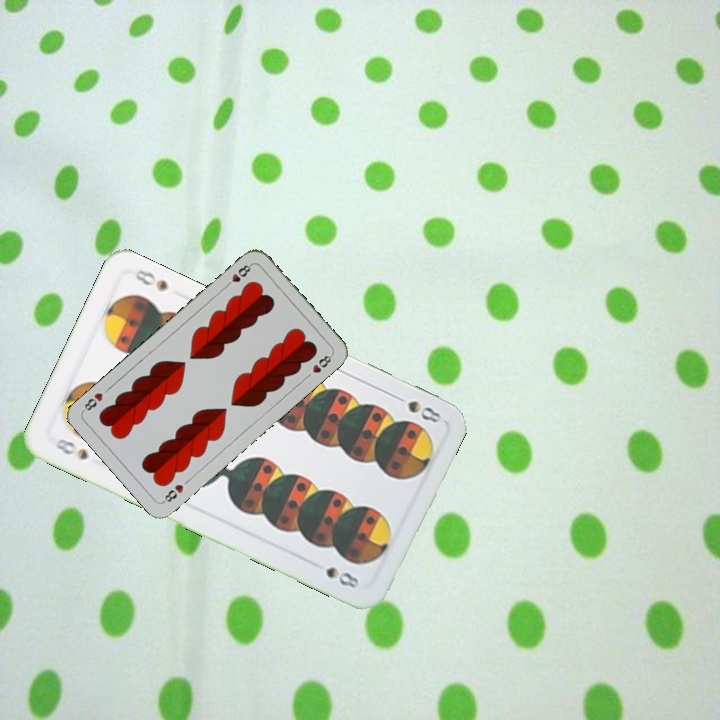H8: (221, 260, 255, 291), (159, 480, 186, 506)
S8: (389, 390, 446, 426), (50, 434, 91, 463)
